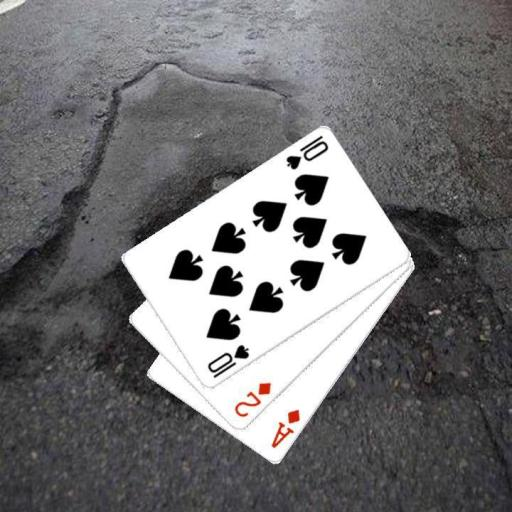card-corner: (282, 133, 330, 172), (203, 342, 251, 380), (230, 379, 273, 420), (268, 406, 302, 450)
